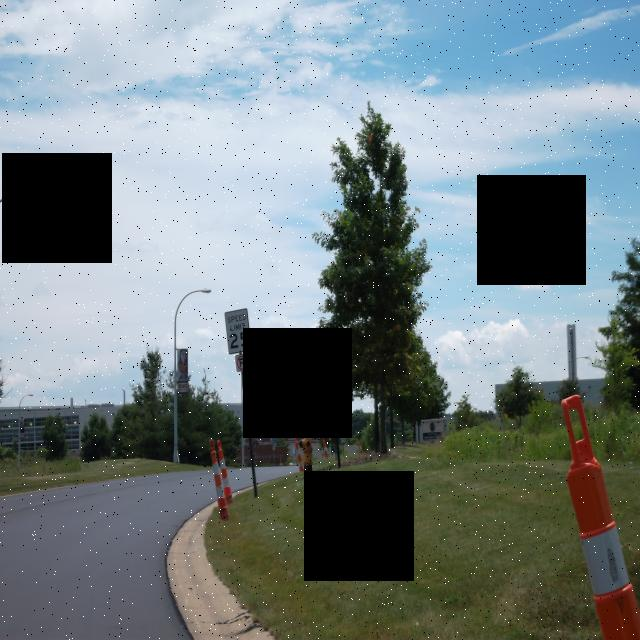regulatory: (224, 302, 253, 354)
